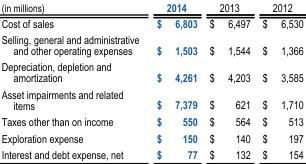table: (0, 0, 302, 160)
table column: (0, 0, 147, 160), (147, 0, 202, 160), (202, 0, 255, 160), (255, 0, 302, 160)
table column header: (0, 0, 302, 14)
table row: (0, 30, 302, 58), (0, 58, 302, 85), (0, 85, 302, 112), (0, 112, 302, 129), (0, 14, 302, 30), (0, 129, 302, 145), (0, 145, 302, 160), (0, 0, 302, 14)
